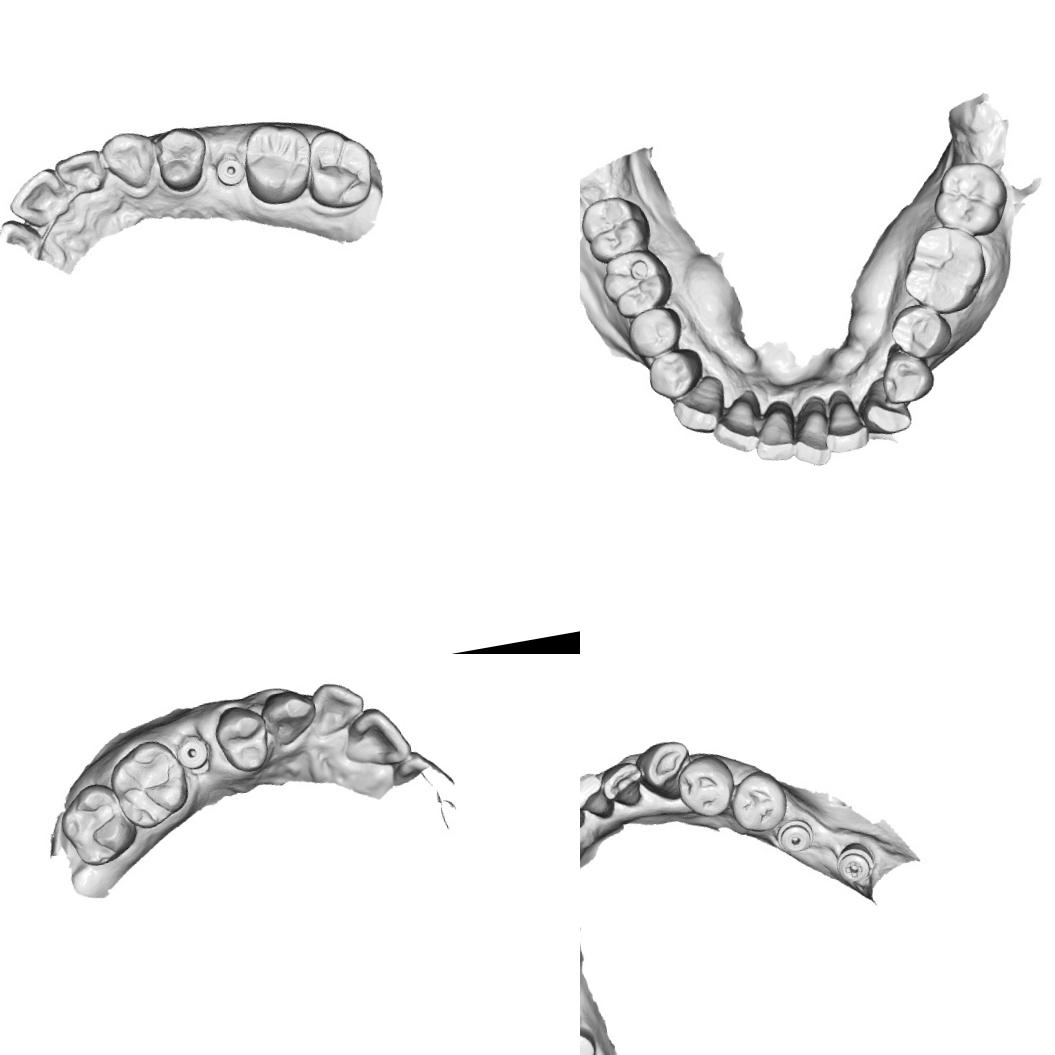canine: (258, 686, 322, 756), (851, 375, 917, 442), (96, 126, 160, 195), (666, 371, 730, 439), (633, 736, 695, 804)
implant: (170, 725, 216, 775), (771, 813, 816, 860), (212, 153, 246, 189), (580, 1025, 600, 1055)
implant_plus: (830, 841, 876, 888)
incisor: (334, 700, 414, 775), (2, 164, 74, 232), (302, 676, 368, 742), (816, 388, 873, 457), (706, 390, 763, 457), (784, 398, 836, 470), (747, 402, 800, 466), (52, 146, 109, 199), (600, 755, 646, 813), (580, 764, 616, 825)
molar: (892, 215, 995, 323), (102, 732, 193, 834), (924, 152, 1016, 243), (51, 776, 139, 871), (236, 115, 321, 210), (297, 123, 378, 214), (596, 246, 677, 322), (580, 189, 655, 265)
premolar: (208, 698, 276, 778), (883, 298, 958, 366), (673, 749, 739, 822), (725, 764, 790, 837), (150, 124, 212, 196), (641, 341, 709, 404), (623, 302, 688, 362), (876, 346, 938, 408)
